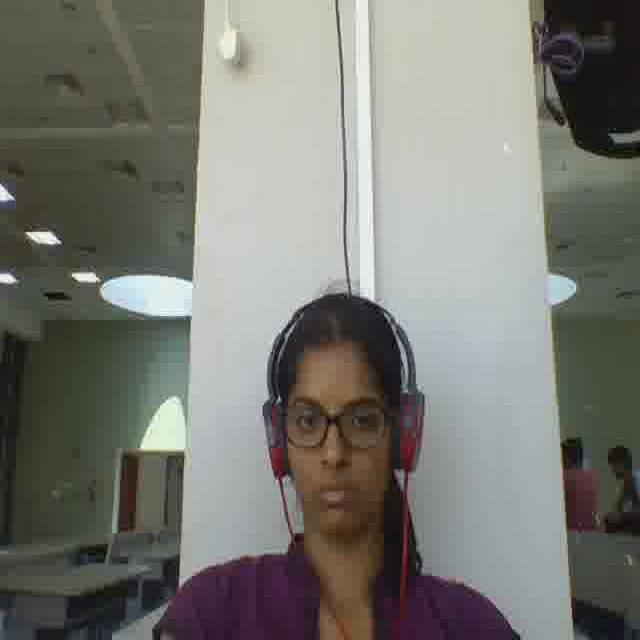Boredom: (282, 344, 392, 537)
